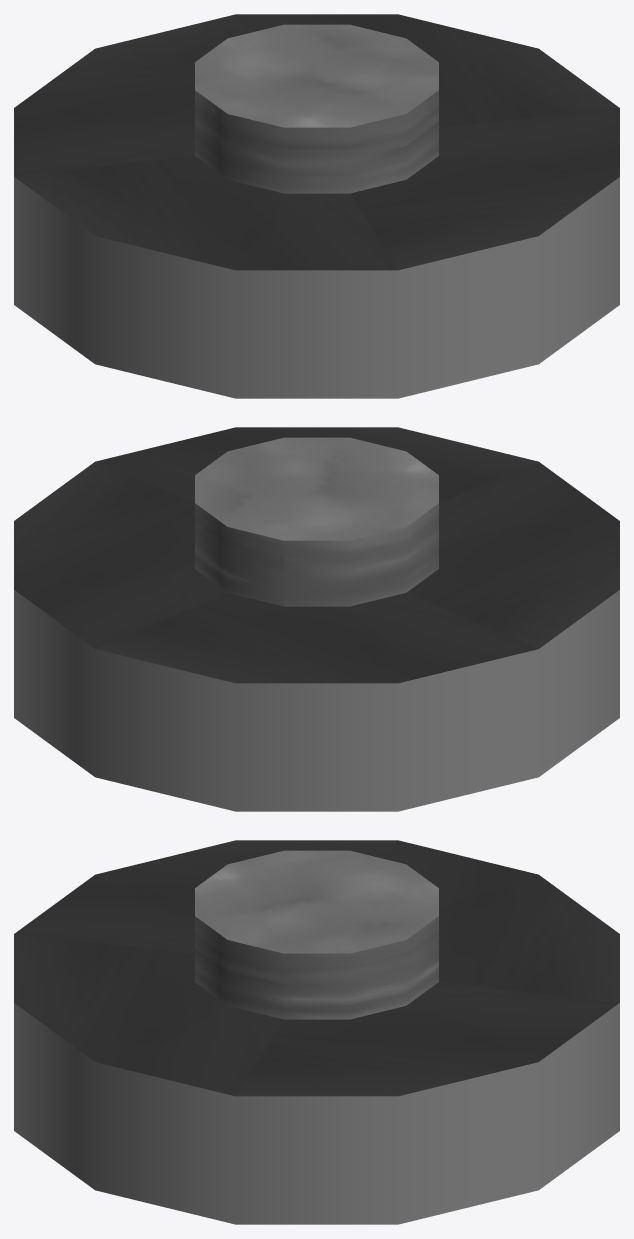
The model's file is MassconMd.FBX.
3 views of the same model, one above another, from view 1: azimuth 30°, elevation 25°; view 2: azimuth 150°, elevation 25°; view 3: azimuth 270°, elevation 25° (orthographic).
Visible parts, largest first — view 1: Cylinder001, Cylinder003; view 2: Cylinder001, Cylinder003; view 3: Cylinder001, Cylinder003.
Part boxes in pixels (x1,y1,x2,y2): Cylinder001: [14, 14, 619, 398]; Cylinder003: [195, 24, 438, 193]; Cylinder001: [14, 427, 619, 811]; Cylinder003: [195, 437, 438, 606]; Cylinder001: [14, 840, 619, 1224]; Cylinder003: [195, 850, 438, 1019].
Size of what is drawn, in the model's own units: 0.3432 by 0.3432 by 0.1215.
Materials: 1 (1 with a texture image).
